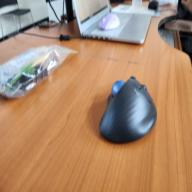mouse: (98, 74, 157, 144)
